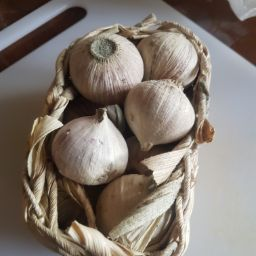Garlic cloves: (78, 20, 198, 251), (42, 107, 172, 241), (67, 25, 198, 150), (58, 112, 130, 190), (122, 83, 196, 153), (107, 174, 172, 252), (78, 36, 144, 100), (141, 31, 199, 87)
